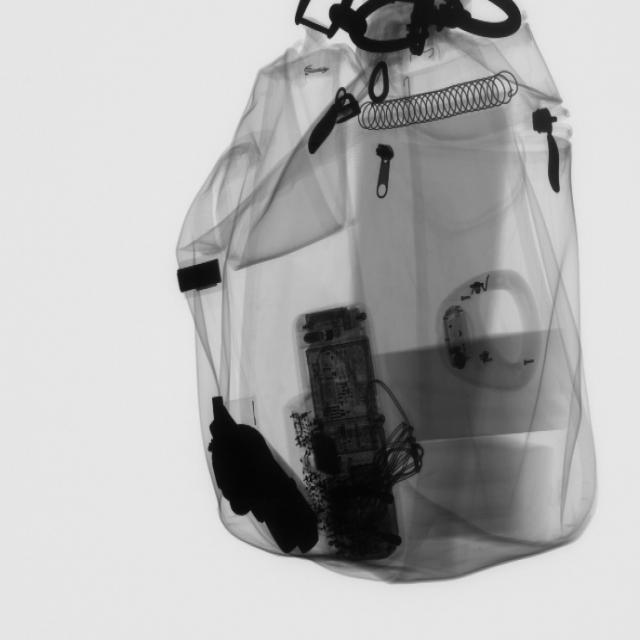GUN: (205, 393, 310, 561)
